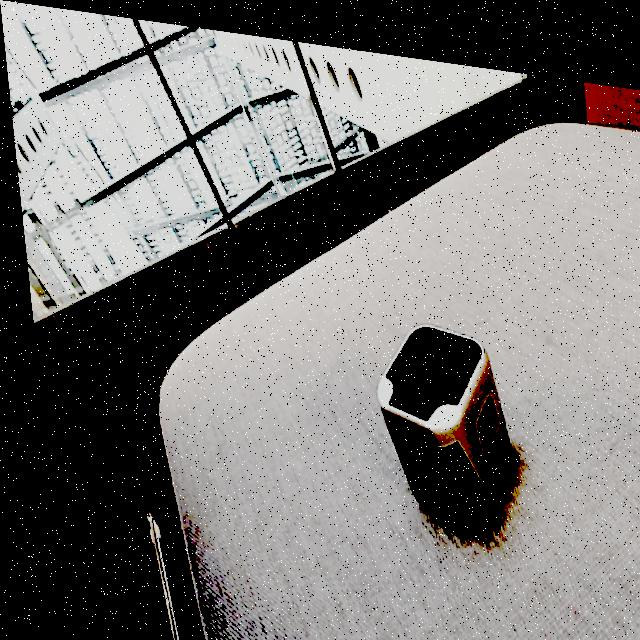adapter: (362, 305, 509, 518)
